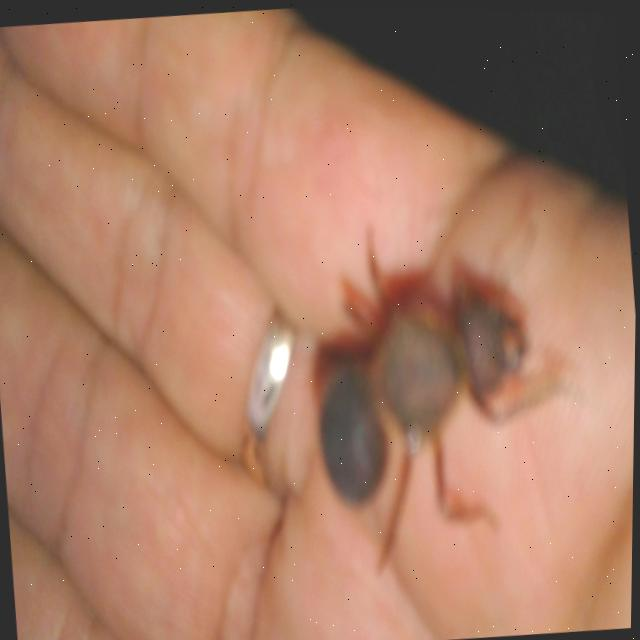Alive-Female-Dealate: (300, 203, 589, 586)
